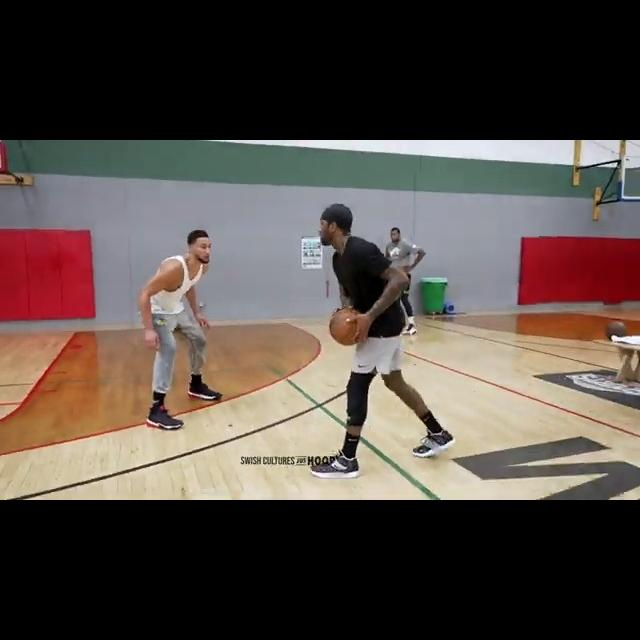basketball: (328, 307, 365, 347)
person: (309, 205, 456, 477), (134, 228, 229, 432), (384, 228, 428, 339)
